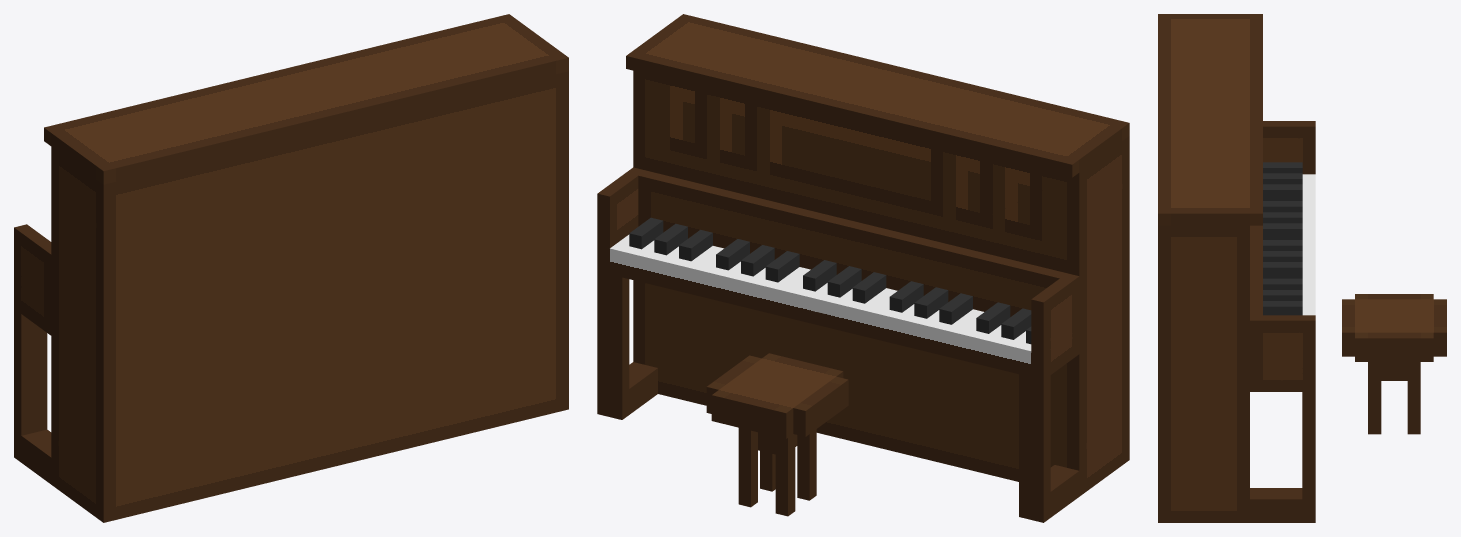
Rendered from Piano.gltf.
3 views of the same model, side by side, from view 1: azimuth 30°, elevation 25°; view 2: azimuth 150°, elevation 25°; view 3: azimuth 270°, elevation 25° (orthographic). The views are drawn at different scales.
Parts seen in each view (by area): view 1: 89d3e4e6-1572-f869-ebb9-57fe6fa8a3b0, e4fa1e34-20f5-2fa3-15fc-bc04cac4939b, bbaa55a3-81dc-345f-46a2-28cfcece1dd7, 4194b789-1cb7-c0c8-84ff-7dac7641bda2, fea08bf0-4028-6909-06c7-1a1c26ceb94e, 05789586-85f4-13bb-0b7e-98e36e75c6b2; view 2: 89d3e4e6-1572-f869-ebb9-57fe6fa8a3b0, e4fa1e34-20f5-2fa3-15fc-bc04cac4939b, e302aa79-2f1f-8eea-df06-55e2b24d2101, 05789586-85f4-13bb-0b7e-98e36e75c6b2, a87751a7-fbc7-9c3d-0cbd-784e274ebac3, c28761b6-20ea-17d1-ada8-832aeb7dcd33, bbaa55a3-81dc-345f-46a2-28cfcece1dd7, 4194b789-1cb7-c0c8-84ff-7dac7641bda2, 290085c1-5367-ecff-0af0-5aeae74f97d9, fea08bf0-4028-6909-06c7-1a1c26ceb94e, fbb1b624-dda9-906d-1a90-36ca9519d805, 01bcf6ad-5c72-00c8-4ff4-d4226610d8f2 (+19 smaller); view 3: 89d3e4e6-1572-f869-ebb9-57fe6fa8a3b0, e4fa1e34-20f5-2fa3-15fc-bc04cac4939b, a87751a7-fbc7-9c3d-0cbd-784e274ebac3, 05789586-85f4-13bb-0b7e-98e36e75c6b2, 290085c1-5367-ecff-0af0-5aeae74f97d9, 4194b789-1cb7-c0c8-84ff-7dac7641bda2, 01058d2c-d552-1d52-ffb7-17ae0b454de2, fbb1b624-dda9-906d-1a90-36ca9519d805, c28761b6-20ea-17d1-ada8-832aeb7dcd33, e302aa79-2f1f-8eea-df06-55e2b24d2101, b3c6eb7b-493f-dddb-2e77-235a458a8682, a2ccbacf-3e55-c23d-7e08-2e02cfe7d67a (+14 smaller).
Boxes of the visible parts, bbox=[...] form: 89d3e4e6-1572-f869-ebb9-57fe6fa8a3b0: bbox=[51, 71, 568, 522]; e4fa1e34-20f5-2fa3-15fc-bc04cac4939b: bbox=[44, 14, 568, 184]; bbaa55a3-81dc-345f-46a2-28cfcece1dd7: bbox=[14, 309, 47, 435]; 4194b789-1cb7-c0c8-84ff-7dac7641bda2: bbox=[14, 224, 51, 308]; fea08bf0-4028-6909-06c7-1a1c26ceb94e: bbox=[14, 429, 51, 484]; 05789586-85f4-13bb-0b7e-98e36e75c6b2: bbox=[14, 282, 51, 335]; 89d3e4e6-1572-f869-ebb9-57fe6fa8a3b0: bbox=[633, 70, 1129, 496]; e4fa1e34-20f5-2fa3-15fc-bc04cac4939b: bbox=[626, 14, 1129, 177]; e302aa79-2f1f-8eea-df06-55e2b24d2101: bbox=[638, 170, 1066, 316]; 05789586-85f4-13bb-0b7e-98e36e75c6b2: bbox=[597, 234, 1079, 380]; a87751a7-fbc7-9c3d-0cbd-784e274ebac3: bbox=[711, 353, 843, 438]; c28761b6-20ea-17d1-ada8-832aeb7dcd33: bbox=[597, 271, 629, 393]; bbaa55a3-81dc-345f-46a2-28cfcece1dd7: bbox=[1019, 374, 1050, 496]; 4194b789-1cb7-c0c8-84ff-7dac7641bda2: bbox=[1031, 273, 1079, 354]; 290085c1-5367-ecff-0af0-5aeae74f97d9: bbox=[597, 167, 645, 248]; fea08bf0-4028-6909-06c7-1a1c26ceb94e: bbox=[1019, 465, 1079, 522]; fbb1b624-dda9-906d-1a90-36ca9519d805: bbox=[597, 362, 657, 419]; 01bcf6ad-5c72-00c8-4ff4-d4226610d8f2: bbox=[793, 376, 848, 436]; 89d3e4e6-1572-f869-ebb9-57fe6fa8a3b0: bbox=[1158, 225, 1249, 522]; e4fa1e34-20f5-2fa3-15fc-bc04cac4939b: bbox=[1158, 14, 1262, 225]; a87751a7-fbc7-9c3d-0cbd-784e274ebac3: bbox=[1342, 299, 1446, 356]; 05789586-85f4-13bb-0b7e-98e36e75c6b2: bbox=[1250, 174, 1315, 391]; 290085c1-5367-ecff-0af0-5aeae74f97d9: bbox=[1250, 315, 1315, 368]; 4194b789-1cb7-c0c8-84ff-7dac7641bda2: bbox=[1263, 121, 1315, 174]; 01058d2c-d552-1d52-ffb7-17ae0b454de2: bbox=[1355, 332, 1433, 361]; fbb1b624-dda9-906d-1a90-36ca9519d805: bbox=[1250, 488, 1315, 522]; c28761b6-20ea-17d1-ada8-832aeb7dcd33: bbox=[1302, 392, 1315, 499]; e302aa79-2f1f-8eea-df06-55e2b24d2101: bbox=[1250, 225, 1262, 315]; b3c6eb7b-493f-dddb-2e77-235a458a8682: bbox=[1368, 362, 1381, 434]; a2ccbacf-3e55-c23d-7e08-2e02cfe7d67a: bbox=[1407, 362, 1420, 434].
Size of the model in its own units: 2.25 by 1.62 by 1.38.
1 material, 1 textured.
